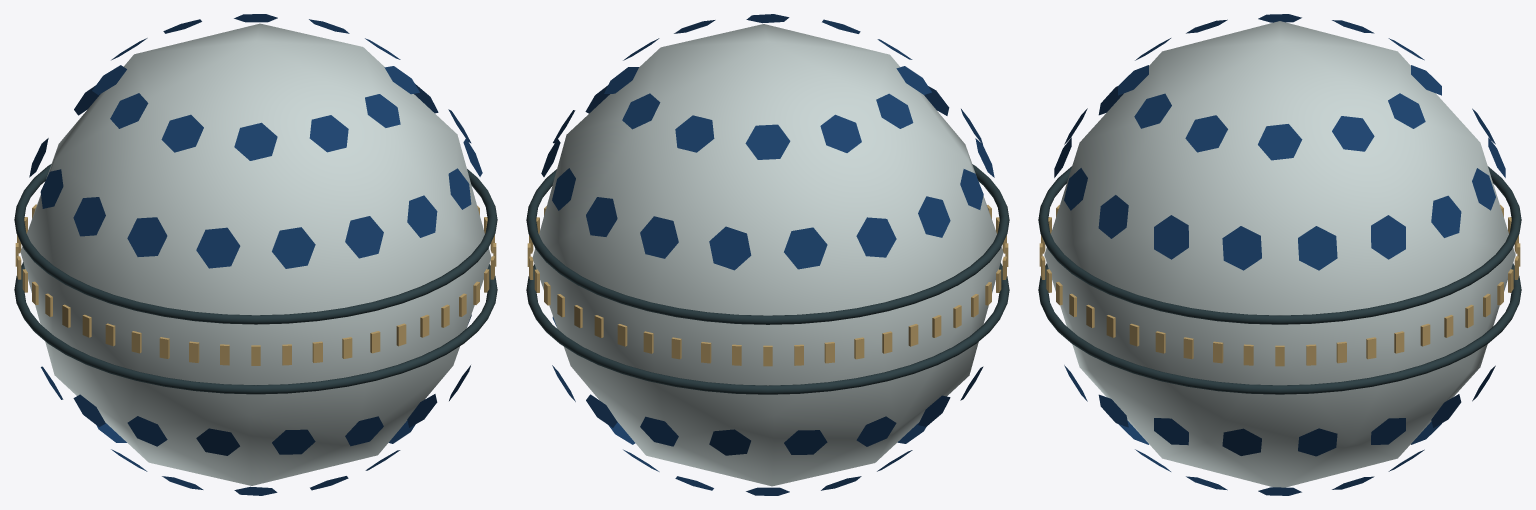
Rendered from telstar-1.glb.
The picture shows the model from 3 angles, left to right: view 1: azimuth 30°, elevation 25°; view 2: azimuth 150°, elevation 25°; view 3: azimuth 270°, elevation 25°; orthographic projection.
Visible parts, largest first — view 1: body, service, antenna; view 2: body, service, antenna; view 3: body, service, antenna.
Part boxes in pixels (box(x1,y1,x2,y2)): body: box(20, 23, 491, 485); service: box(29, 14, 482, 495); antenna: box(14, 164, 497, 394); body: box(532, 24, 1003, 486); service: box(541, 14, 994, 495); antenna: box(526, 164, 1009, 394); body: box(1044, 21, 1515, 487); service: box(1054, 14, 1505, 495); antenna: box(1038, 166, 1521, 394).
Size of the model in its own units: 2.26 by 2.2 by 2.26.
